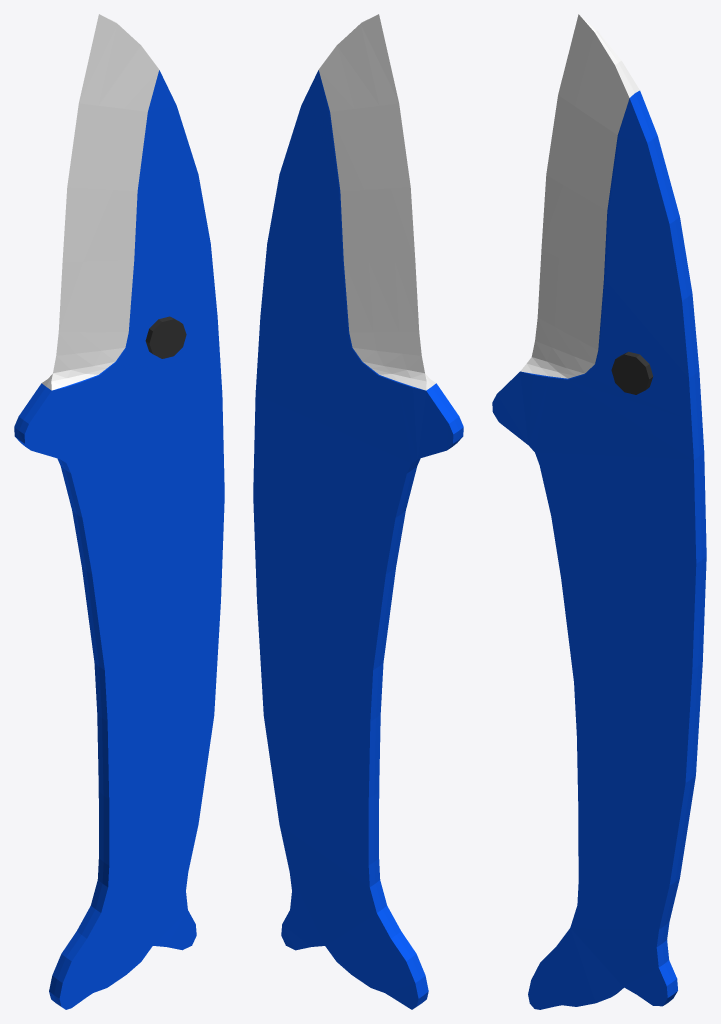
The model's file is knife_shark.fbx.
3 views of the same model, side by side, from view 1: azimuth 30°, elevation 25°; view 2: azimuth 150°, elevation 25°; view 3: azimuth 330°, elevation 25° (orthographic).
Visible parts, largest first — view 1: knife_shark; view 2: knife_shark; view 3: knife_shark.
Part boxes in pixels (<box>): knife_shark: <box>14,14,224,1009</box>; knife_shark: <box>253,14,463,1009</box>; knife_shark: <box>492,14,706,1009</box>.
Size of the model in its own units: 0.8537 by 3.99 by 0.1057.
1 material, 1 textured.
